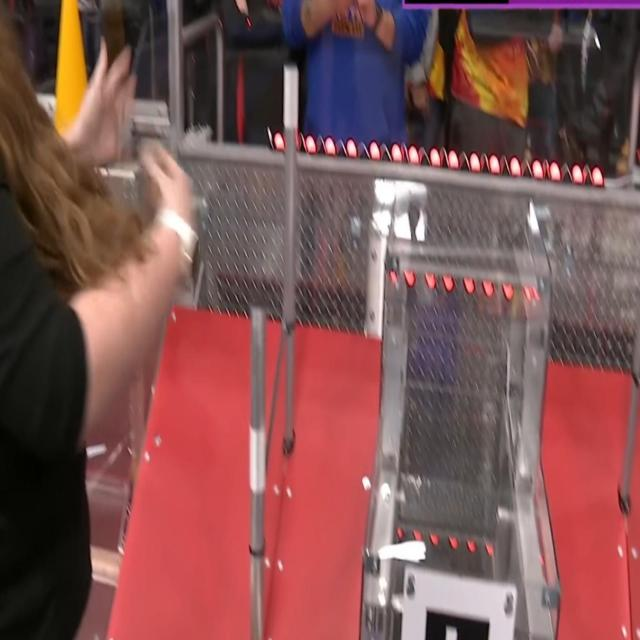frc_cone: (49, 0, 90, 141)
